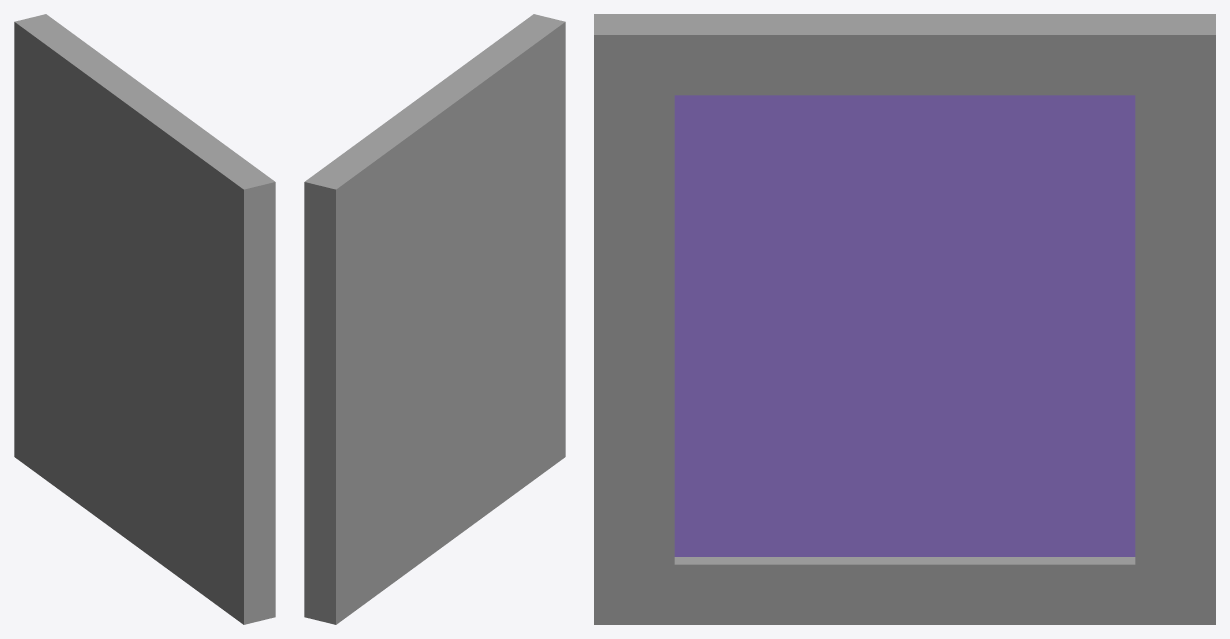
File: tableau1.fbx
The picture shows the model from 3 angles, left to right: view 1: azimuth 30°, elevation 25°; view 2: azimuth 150°, elevation 25°; view 3: azimuth 270°, elevation 25°; orthographic projection. The views are drawn at different scales.
Parts seen in each view (by area): view 1: tableau1; view 2: tableau1; view 3: tableau1.
Part boxes in pixels (bbox=[...]): tableau1: bbox=[14, 14, 275, 624]; tableau1: bbox=[304, 14, 565, 624]; tableau1: bbox=[594, 14, 1215, 624].
Bounding box in the file's own units: 2.05 × 26.93 × 25.72.
